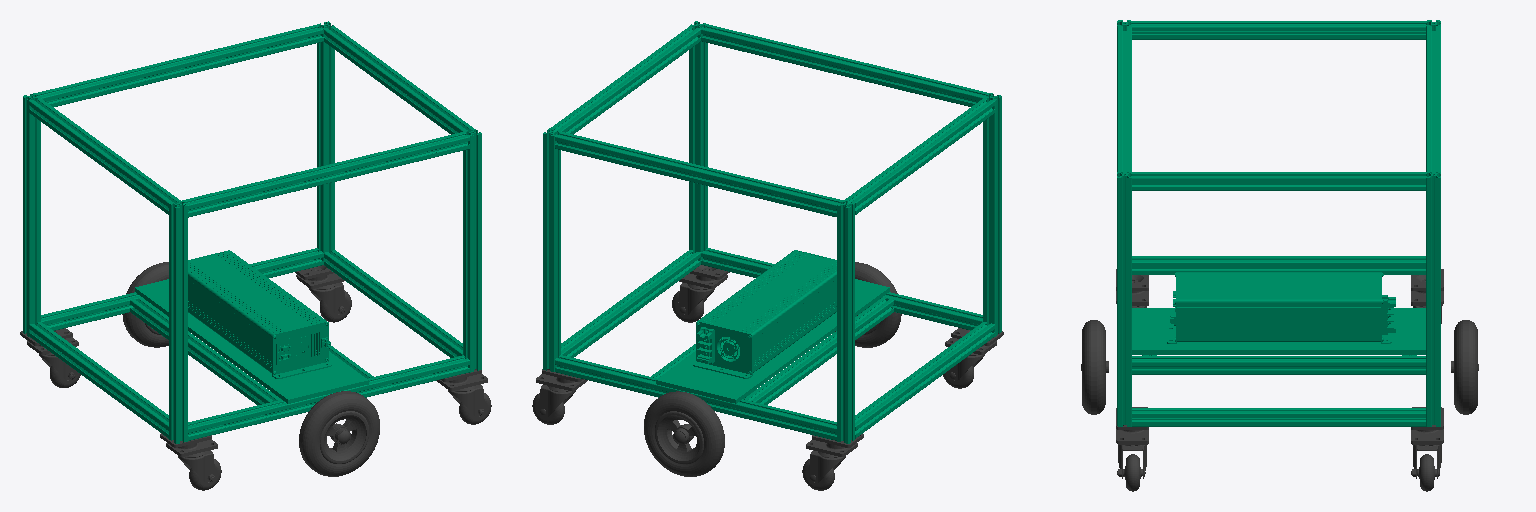
The robot description file, URDF, robot "omo_r1mini":
<?xml version="1.0" ?>
<robot name="omo_r1mini"
  xmlns:xacro="http://ros.org/wiki/xacro">

  <!-- Init colour -->
  <material name="black">
      <color rgba="0.0 0.0 0.0 1.0"/>
  </material>

  <material name="dark">
    <color rgba="0.3 0.3 0.3 1.0"/>
  </material>

  <material name="light_black">
    <color rgba="0.4 0.4 0.4 1.0"/>
  </material>

  <material name="blue">
    <color rgba="0.0 0.0 0.8 1.0"/>
  </material>

  <material name="green">
    <color rgba="0.0 0.8 0.0 1.0"/>
  </material>

  <material name="grey">
    <color rgba="0.5 0.5 0.5 1.0"/>
  </material>

  <material name="orange">
    <color rgba="1.0 0.4235 0.0392 1.0"/>
  </material>

  <material name="brown">
    <color rgba="0.8706 0.8118 0.7647 1.0"/>
  </material>

  <material name="red">
    <color rgba="0.8 0.0 0.0 1.0"/>
  </material>

  <material name="white">
    <color rgba="1.0 1.0 1.0 1.0"/>
  </material>

  <link name="base_footprint"/>

  <joint name="base_joint" type="fixed">
    <parent link="base_footprint"/>
    <child link="base_link" />
    <origin xyz="0 0 0.05" rpy="0 0 0"/>
  </joint>

  <link name="base_link">
    <visual>
      <origin xyz="0 0 -0.01605" rpy="0 0 0"/>
      <geometry>
        <mesh filename="package://omo_r1mini_description/meshes/bases/motor_final.dae" scale="1 1 1"/>
      </geometry>
      <material name="dark"/>
    </visual>

    <collision>
      <origin xyz="0 0 -0.01605" rpy="0 0 0"/>
      <geometry>
        <mesh filename="package://omo_r1mini_description/meshes/bases/motor_final.dae" scale="1 1 1"/>
      </geometry>
    </collision>

    <inertial>
      <origin xyz="-0.1 0 0" rpy="0 0 0"/>
      <mass value="1.3729096e+00"/>
      <inertia ixx="8.7002718e-03" ixy="-4.7576583e-05" ixz="1.1160499e-04"
               iyy="8.6195418e-03" iyz="-3.5422299e-06"
               izz="1.4612727e-02" />
    </inertial>
  </link>

  <joint name="housing_joint" type="fixed">
    <parent link="base_link"/>
    <child link="housing_link" />
    <origin xyz="0 0 -0.01605" rpy="0 0 0.0"/>
  </joint>

  <link name="housing_link">
    <visual>
      <origin xyz="0 0 0" rpy="0 0 0"/>
      <geometry>
        <mesh filename="package://omo_r1mini_description/meshes/bases/frame_final.dae" scale="1 1 1"/>
      </geometry>
      <material name="pink"/>
    </visual>
    <collision>
      <origin xyz="0 0 0" rpy="0 0 0"/>
      <geometry>
        <mesh filename="package://omo_r1mini_description/meshes/bases/frame_final.dae" scale="1 1 1"/>
      </geometry>
    </collision>
    <inertial>
      <origin xyz="-0.1 0 0" rpy="0 0 0"/>
      <mass value="0.01"/>
      <inertia ixx="8.7002718e-04" ixy="-4.7576583e-07" ixz="1.1160499e-07"
               iyy="8.6195418e-04" iyz="-3.5422299e-07"
               izz="1.4612727e-04" />
    </inertial>
  </link>

  <joint name="wheel_left_joint" type="fixed"> <!-- continuous -->
    <parent link="base_link"/>
    <child link="wheel_left_link"/>
    <origin xyz="0 0.38 -0.06" rpy="0 0 0"/>
    <axis xyz="0 1 0"/>
  </joint>

  <link name="wheel_left_link">
    <visual>
      <origin xyz="0 0 0" rpy="0 0 0"/>
      <geometry>
        <mesh filename="package://omo_r1mini_description/meshes/wheels/wheelL.dae" scale="1 1 1"/>
      </geometry>
      <material name="dark"/>
    </visual>

    <collision>
      <origin xyz="0 0 0" rpy="0 0 0"/>
      <geometry>
        <mesh filename="package://omo_r1mini_description/meshes/wheels/wheelL.dae" scale="1 1 1"/>
      </geometry>
    </collision>
    <inertial>
      <origin xyz="0 0 0" />
      <mass value="2.8498940e-02" />
      <inertia ixx="1.1175580e-05" ixy="-4.2369783e-11" ixz="-5.9381719e-09"
               iyy="1.1192413e-05" iyz="-1.4400107e-11"
               izz="2.0712558e-05" />
    </inertial>
  </link>

  <joint name="wheel_right_joint" type="fixed"> <!-- continuous -->
    <parent link="base_link"/>
    <child link="wheel_right_link"/>
    <origin xyz="0 -0.38 -0.06" rpy="-3.14159265 0 0"/>
    <axis xyz="0 1 0"/>
  </joint>

  <link name="wheel_right_link">
    <visual>
      <origin xyz="0 0 0" rpy="0 0 -3.141592"/>
      <geometry>
        <mesh filename="package://omo_r1mini_description/meshes/wheels/wheelR.dae" scale="1 1 1"/>
      </geometry>
      <material name="dark"/>
    </visual>

    <collision>
      <origin xyz="0 0 0" rpy="0 0 -3.141592"/>
      <geometry>
        <mesh filename="package://omo_r1mini_description/meshes/wheels/wheelR.dae" scale="1 1 1"/>
      </geometry>
    </collision>
    <inertial>
      <origin xyz="0 0 0" />
      <mass value="2.8498940e-02" />
      <inertia ixx="1.1175580e-05" ixy="-4.2369783e-11" ixz="-5.9381719e-09"
               iyy="1.1192413e-05" iyz="-1.4400107e-11"
               izz="2.0712558e-05" />
    </inertial>
  </link>

  <joint name="caster_mount1_joint" type="fixed">
    <parent link="base_link"/>
    <child link="caster_mount1_link"/>
    <origin xyz="0.335 0.3 -0.02" rpy="0 0 0"/>
  </joint>

  <link name="caster_mount1_link">
    <visual>
      <origin xyz="0 0 0" rpy="0 0 0"/>
      <geometry>
        <mesh filename="package://omo_r1mini_description/meshes/wheels/caster_mount_final.dae" scale="1 1 1"/>
      </geometry>
      <material name="dark"/>
    </visual>
    <collision>
      <origin xyz="0 0 0" rpy="0 0 0"/>
      <geometry>
        <mesh filename="package://omo_r1mini_description/meshes/wheels/caster_mount_final.dae" scale="1 1 1"/>
      </geometry>
    </collision>

    <inertial>
      <origin xyz="0 0 0" />
      <mass value="0.005" />
      <inertia ixx="0.001" ixy="0.0" ixz="0.0"
               iyy="0.001" iyz="0.0"
               izz="0.001" />
    </inertial>
  </link>

  <joint name="caster_rotate1_joint" type="fixed"> <!-- continuous -->
    <parent link="caster_mount1_link"/>
    <child link="caster_rotate1_link"/>
    <origin xyz="0.015 0 -0.04" rpy="0 0 0"/>
  </joint>

  <link name="caster_rotate1_link">
    <visual>
      <origin xyz="0 0 0" rpy="0 0 0"/>
      <geometry>
        <mesh filename="package://omo_r1mini_description/meshes/wheels/caster_rotate_final.dae" scale="1 1 1"/>
      </geometry>
      <material name="dark"/>
    </visual>
    <collision>
      <origin xyz="0 0 0" rpy="0 0 0"/>
      <geometry>
        <mesh filename="package://omo_r1mini_description/meshes/wheels/caster_rotate_final.dae" scale="1 1 1"/>
      </geometry>
    </collision>

    <inertial>
      <origin xyz="0 0 0" />
      <mass value="0.005" />
      <inertia ixx="0.001" ixy="0.0" ixz="0.0"
               iyy="0.001" iyz="0.0"
               izz="0.001" />
    </inertial>
  </link>

  <joint name="caster_wheel1_joint" type="fixed"> <!-- continuous -->
    <parent link="caster_rotate1_link"/>
    <child link="caster_wheel1_link"/>
    <origin xyz="0.0325 0 -0.06" rpy="0 0 0"/>
    <axis xyz="0 1 0"/>
  </joint>

  <link name="caster_wheel1_link">
    <visual>
      <origin xyz="0 0 0" rpy="0 0 0"/>
      <geometry>
        <mesh filename="package://omo_r1mini_description/meshes/wheels/caster_wheel_final.dae" scale="1 1 1"/>
      </geometry>
      <material name="dark"/>
    </visual>
    <collision>
      <origin xyz="0 0 0" rpy="0 0 0"/>
      <geometry>
        <mesh filename="package://omo_r1mini_description/meshes/wheels/caster_wheel_final.dae" scale="1 1 1"/>
      </geometry>
    </collision>

    <inertial>
      <origin xyz="0 0 0" />
      <mass value="0.005" />
      <inertia ixx="0.001" ixy="0.0" ixz="0.0"
               iyy="0.001" iyz="0.0"
               izz="0.001" />
    </inertial>
  </link>

  <joint name="caster_mount2_joint" type="fixed">
    <parent link="base_link"/>
    <child link="caster_mount2_link"/>
    <origin xyz="0.335 -0.3 -0.02" rpy="0 0 0"/>
  </joint>

  <link name="caster_mount2_link">
    <visual>
      <origin xyz="0 0 0" rpy="0 0 0"/>
      <geometry>
        <mesh filename="package://omo_r1mini_description/meshes/wheels/caster_mount_final.dae" scale="1 1 1"/>
      </geometry>
      <material name="dark"/>
    </visual>
    <collision>
      <origin xyz="0 0 0" rpy="0 0 0"/>
      <geometry>
        <mesh filename="package://omo_r1mini_description/meshes/wheels/caster_mount_final.dae" scale="1 1 1"/>
      </geometry>
    </collision>

    <inertial>
      <origin xyz="0 0 0" />
      <mass value="0.005" />
      <inertia ixx="0.001" ixy="0.0" ixz="0.0"
               iyy="0.001" iyz="0.0"
               izz="0.001" />
    </inertial>
  </link>

  <joint name="caster_rotate2_joint" type="fixed"> <!-- continuous -->
    <parent link="caster_mount2_link"/>
    <child link="caster_rotate2_link"/>
    <origin xyz="0.015 0 -0.04" rpy="0 0 0"/>
  </joint>

  <link name="caster_rotate2_link">
    <visual>
      <origin xyz="0 0 0" rpy="0 0 0"/>
      <geometry>
        <mesh filename="package://omo_r1mini_description/meshes/wheels/caster_rotate_final.dae" scale="1 1 1"/>
      </geometry>
      <material name="dark"/>
    </visual>
    <collision>
      <origin xyz="0 0 0" rpy="0 0 0"/>
      <geometry>
        <mesh filename="package://omo_r1mini_description/meshes/wheels/caster_rotate_final.dae" scale="1 1 1"/>
      </geometry>
    </collision>

    <inertial>
      <origin xyz="0 0 0" />
      <mass value="0.005" />
      <inertia ixx="0.001" ixy="0.0" ixz="0.0"
               iyy="0.001" iyz="0.0"
               izz="0.001" />
    </inertial>
  </link>

  <joint name="caster_wheel2_joint" type="fixed"> <!-- continuous -->
    <parent link="caster_rotate2_link"/>
    <child link="caster_wheel2_link"/>
    <origin xyz="0.0325 0 -0.06" rpy="0 0 0"/>
    <axis xyz="0 1 0"/>
  </joint>

  <link name="caster_wheel2_link">
    <visual>
      <origin xyz="0 0 0" rpy="0 0 0"/>
      <geometry>
        <mesh filename="package://omo_r1mini_description/meshes/wheels/caster_wheel_final.dae" scale="1 1 1"/>
      </geometry>
      <material name="dark"/>
    </visual>
    <collision>
      <origin xyz="0 0 0" rpy="0 0 0"/>
      <geometry>
        <mesh filename="package://omo_r1mini_description/meshes/wheels/caster_wheel_final.dae" scale="1 1 1"/>
      </geometry>
    </collision>

    <inertial>
      <origin xyz="0 0 0" />
      <mass value="0.005" />
      <inertia ixx="0.001" ixy="0.0" ixz="0.0"
               iyy="0.001" iyz="0.0"
               izz="0.001" />
    </inertial>
  </link>

  <joint name="caster_mount3_joint" type="fixed">
    <parent link="base_link"/>
    <child link="caster_mount3_link"/>
    <origin xyz="-0.335 0.3 -0.02" rpy="0 0 0"/>
  </joint>

  <link name="caster_mount3_link">
    <visual>
      <origin xyz="0 0 0" rpy="0 0 0"/>
      <geometry>
        <mesh filename="package://omo_r1mini_description/meshes/wheels/caster_mount_final.dae" scale="1 1 1"/>
      </geometry>
      <material name="dark"/>
    </visual>
    <collision>
      <origin xyz="0 0 0" rpy="0 0 0"/>
      <geometry>
        <mesh filename="package://omo_r1mini_description/meshes/wheels/caster_mount_final.dae" scale="1 1 1"/>
      </geometry>
    </collision>

    <inertial>
      <origin xyz="0 0 0" />
      <mass value="0.005" />
      <inertia ixx="0.001" ixy="0.0" ixz="0.0"
               iyy="0.001" iyz="0.0"
               izz="0.001" />
    </inertial>
  </link>

  <joint name="caster_rotate3_joint" type="fixed"> <!-- continuous -->
    <parent link="caster_mount3_link"/>
    <child link="caster_rotate3_link"/>
    <origin xyz="0.015 0 -0.04" rpy="0 0 0"/>
  </joint>

  <link name="caster_rotate3_link">
    <visual>
      <origin xyz="0 0 0" rpy="0 0 0"/>
      <geometry>
        <mesh filename="package://omo_r1mini_description/meshes/wheels/caster_rotate_final.dae" scale="1 1 1"/>
      </geometry>
      <material name="dark"/>
    </visual>
    <collision>
      <origin xyz="0 0 0" rpy="0 0 0"/>
      <geometry>
        <mesh filename="package://omo_r1mini_description/meshes/wheels/caster_rotate_final.dae" scale="1 1 1"/>
      </geometry>
    </collision>

    <inertial>
      <origin xyz="0 0 0" />
      <mass value="0.005" />
      <inertia ixx="0.001" ixy="0.0" ixz="0.0"
               iyy="0.001" iyz="0.0"
               izz="0.001" />
    </inertial>
  </link>

  <joint name="caster_wheel3_joint" type="fixed"> <!-- continuous -->
    <parent link="caster_rotate3_link"/>
    <child link="caster_wheel3_link"/>
    <origin xyz="0.0325 0 -0.06" rpy="0 0 0"/>
    <axis xyz="0 1 0"/>
  </joint>

  <link name="caster_wheel3_link">
    <visual>
      <origin xyz="0 0 0" rpy="0 0 0"/>
      <geometry>
        <mesh filename="package://omo_r1mini_description/meshes/wheels/caster_wheel_final.dae" scale="1 1 1"/>
      </geometry>
      <material name="dark"/>
    </visual>
    <collision>
      <origin xyz="0 0 0" rpy="0 0 0"/>
      <geometry>
        <mesh filename="package://omo_r1mini_description/meshes/wheels/caster_wheel_final.dae" scale="1 1 1"/>
      </geometry>
    </collision>

    <inertial>
      <origin xyz="0 0 0" />
      <mass value="0.005" />
      <inertia ixx="0.001" ixy="0.0" ixz="0.0"
               iyy="0.001" iyz="0.0"
               izz="0.001" />
    </inertial>
  </link>

  <joint name="caster_mount4_joint" type="fixed">
    <parent link="base_link"/>
    <child link="caster_mount4_link"/>
    <origin xyz="-0.335 -0.3 -0.02" rpy="0 0 0"/>
  </joint>

  <link name="caster_mount4_link">
    <visual>
      <origin xyz="0 0 0" rpy="0 0 0"/>
      <geometry>
        <mesh filename="package://omo_r1mini_description/meshes/wheels/caster_mount_final.dae" scale="1 1 1"/>
      </geometry>
      <material name="dark"/>
    </visual>
    <collision>
      <origin xyz="0 0 0" rpy="0 0 0"/>
      <geometry>
        <mesh filename="package://omo_r1mini_description/meshes/wheels/caster_mount_final.dae" scale="1 1 1"/>
      </geometry>
    </collision>

    <inertial>
      <origin xyz="0 0 0" />
      <mass value="0.005" />
      <inertia ixx="0.001" ixy="0.0" ixz="0.0"
               iyy="0.001" iyz="0.0"
               izz="0.001" />
    </inertial>
  </link>

  <joint name="caster_rotate4_joint" type="fixed"> <!-- continuous -->
    <parent link="caster_mount4_link"/>
    <child link="caster_rotate4_link"/>
    <origin xyz="0.015 0 -0.04" rpy="0 0 0"/>
  </joint>

  <link name="caster_rotate4_link">
    <visual>
      <origin xyz="0 0 0" rpy="0 0 0"/>
      <geometry>
        <mesh filename="package://omo_r1mini_description/meshes/wheels/caster_rotate_final.dae" scale="1 1 1"/>
      </geometry>
      <material name="dark"/>
    </visual>
    <collision>
      <origin xyz="0 0 0" rpy="0 0 0"/>
      <geometry>
        <mesh filename="package://omo_r1mini_description/meshes/wheels/caster_rotate_final.dae" scale="1 1 1"/>
      </geometry>
    </collision>

    <inertial>
      <origin xyz="0 0 0" />
      <mass value="0.005" />
      <inertia ixx="0.001" ixy="0.0" ixz="0.0"
               iyy="0.001" iyz="0.0"
               izz="0.001" />
    </inertial>
  </link>

  <joint name="caster_wheel4_joint" type="fixed"> <!-- continuous -->
    <parent link="caster_rotate4_link"/>
    <child link="caster_wheel4_link"/>
    <origin xyz="0.0325 0 -0.06" rpy="0 0 0"/>
    <axis xyz="0 1 0"/>
  </joint>

  <link name="caster_wheel4_link">
    <visual>
      <origin xyz="0 0 0" rpy="0 0 0"/>
      <geometry>
        <mesh filename="package://omo_r1mini_description/meshes/wheels/caster_wheel_final.dae" scale="1 1 1"/>
      </geometry>
      <material name="dark"/>
    </visual>
    <collision>
      <origin xyz="0 0 0" rpy="0 0 0"/>
      <geometry>
        <mesh filename="package://omo_r1mini_description/meshes/wheels/caster_wheel_final.dae" scale="1 1 1"/>
      </geometry>
    </collision>

    <inertial>
      <origin xyz="0 0 0" />
      <mass value="0.005" />
      <inertia ixx="0.001" ixy="0.0" ixz="0.0"
               iyy="0.001" iyz="0.0"
               izz="0.001" />
    </inertial>
  </link>

  <joint name="imu_joint" type="fixed">
    <parent link="base_link"/>
    <child link="imu_link"/>
    <origin xyz="-0.02 0.01 0.015" rpy="0 0 0"/>
  </joint>

  <link name="imu_link"/>

  <joint name="scan_joint" type="fixed">
    <parent link="base_link"/>
    <child link="base_scan"/>
    <origin xyz="0 0 0.081" rpy="0 0 0"/>
  </joint>

  <link name="base_scan">
    <visual>
      <origin xyz="0 0 0.0425" rpy="0 0 0"/>
      <geometry>
        <mesh filename="package://omo_r1mini_description/meshes/sensors/ydlidar_assy.dae" scale="1 1 1"/>
      </geometry>
      <material name="dark"/>
    </visual>

    <collision>
      <origin xyz="0 0 0.0425" rpy="0 0 0"/>
      <geometry>
        <mesh filename="package://omo_r1mini_description/meshes/sensors/ydlidar_assy.dae" scale="1 1 1"/>
      </geometry>
    </collision>

    <inertial>
      <mass value="0.114" />
      <origin xyz="0 0 0" />
      <inertia ixx="0.001" ixy="0.0" ixz="0.0" iyy="0.001" iyz="0.0" izz="0.001" />
    </inertial>
  </link>
</robot>

--- Render facts (derived) ---
Views: 3 orthographic renders of the robot side by side, from view 1: azimuth 30°, elevation 25°; view 2: azimuth 150°, elevation 25°; view 3: azimuth 270°, elevation 25°.
Robot: omo_r1mini — 19 links, 18 joints (18 fixed); root link base_footprint; default pose: all joints at 0.
Links seen in each view (by area): view 1: housing_link, wheel_right_link, wheel_left_link, caster_mount1_link, caster_mount4_link, caster_mount2_link, caster_rotate4_link, caster_rotate2_link, caster_rotate1_link; view 2: housing_link, wheel_left_link, wheel_right_link, caster_mount2_link, caster_mount3_link, caster_mount1_link, caster_rotate3_link, caster_rotate1_link, caster_rotate2_link; view 3: housing_link, wheel_left_link, wheel_right_link, caster_mount1_link, caster_mount2_link, caster_mount3_link, caster_mount4_link, caster_wheel1_link, caster_wheel2_link.
Boxes of the visible links, x1,y1,x2,y2 form: housing_link: [23, 21, 481, 443]; wheel_right_link: [299, 391, 379, 476]; wheel_left_link: [122, 262, 168, 347]; caster_mount1_link: [295, 265, 344, 289]; caster_mount4_link: [160, 433, 217, 457]; caster_mount2_link: [437, 369, 487, 391]; caster_rotate4_link: [178, 450, 215, 482]; caster_rotate2_link: [448, 384, 485, 416]; caster_rotate1_link: [309, 282, 345, 314]; housing_link: [543, 21, 1001, 443]; wheel_left_link: [644, 391, 724, 476]; wheel_right_link: [835, 262, 901, 347]; caster_mount2_link: [679, 265, 729, 289]; caster_mount3_link: [806, 434, 863, 457]; caster_mount1_link: [536, 369, 587, 391]; caster_rotate3_link: [808, 450, 845, 482]; caster_rotate1_link: [538, 385, 575, 416]; caster_rotate2_link: [678, 282, 714, 314]; housing_link: [1117, 20, 1440, 426]; wheel_left_link: [1451, 320, 1478, 414]; wheel_right_link: [1081, 320, 1108, 414]; caster_mount1_link: [1411, 407, 1443, 445]; caster_mount2_link: [1116, 407, 1148, 445]; caster_mount3_link: [1411, 269, 1443, 306]; caster_mount4_link: [1116, 269, 1148, 306]; caster_wheel1_link: [1417, 454, 1436, 491]; caster_wheel2_link: [1123, 454, 1142, 491].
Size in the robot's own frame: 0.8031 by 0.812 by 0.701 metres.
15 mesh visuals loaded from 8 distinct referenced files (6 Collada DAE); not drawn: 1 (reference not matched to a file when rendering), 1 (file found but could not be loaded).